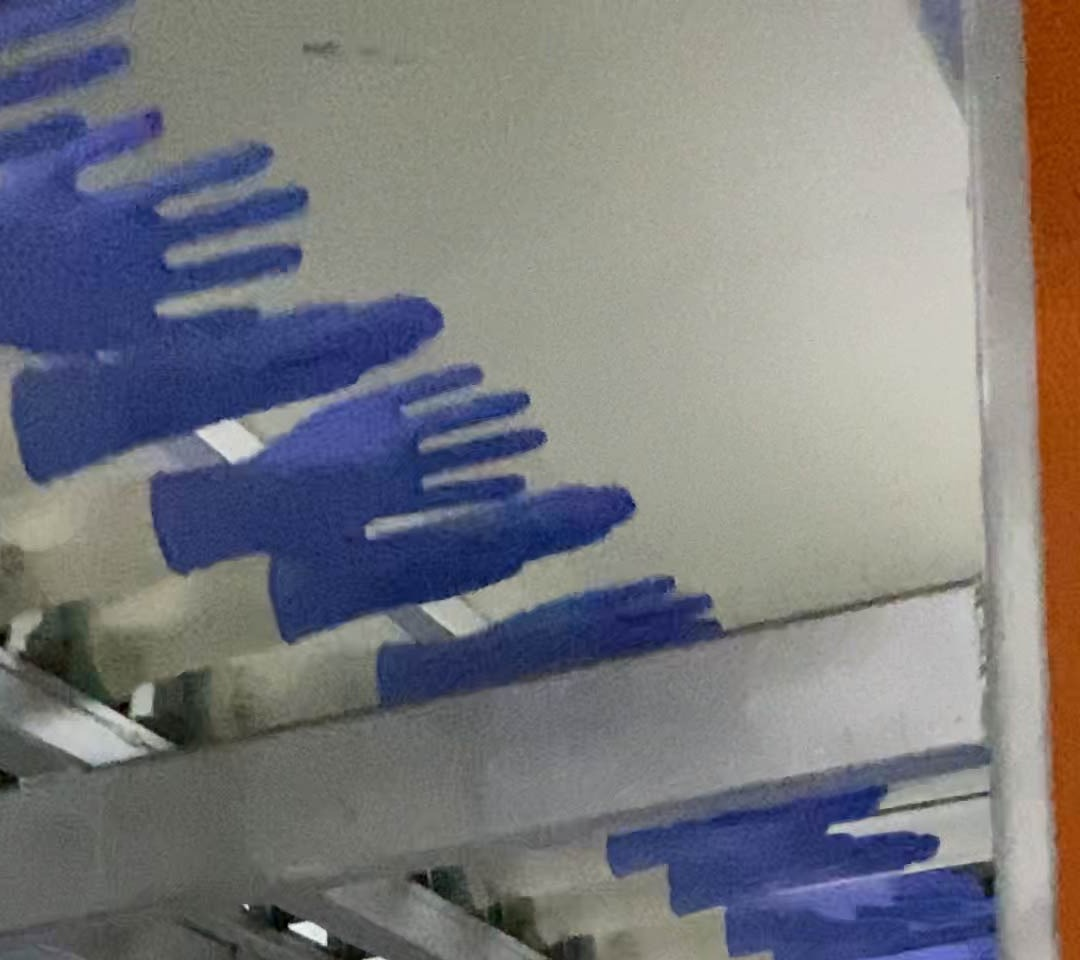glove: (147, 365, 550, 575), (1, 107, 310, 361), (378, 576, 726, 685)
